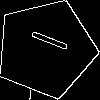I: (21, 24, 70, 54)
